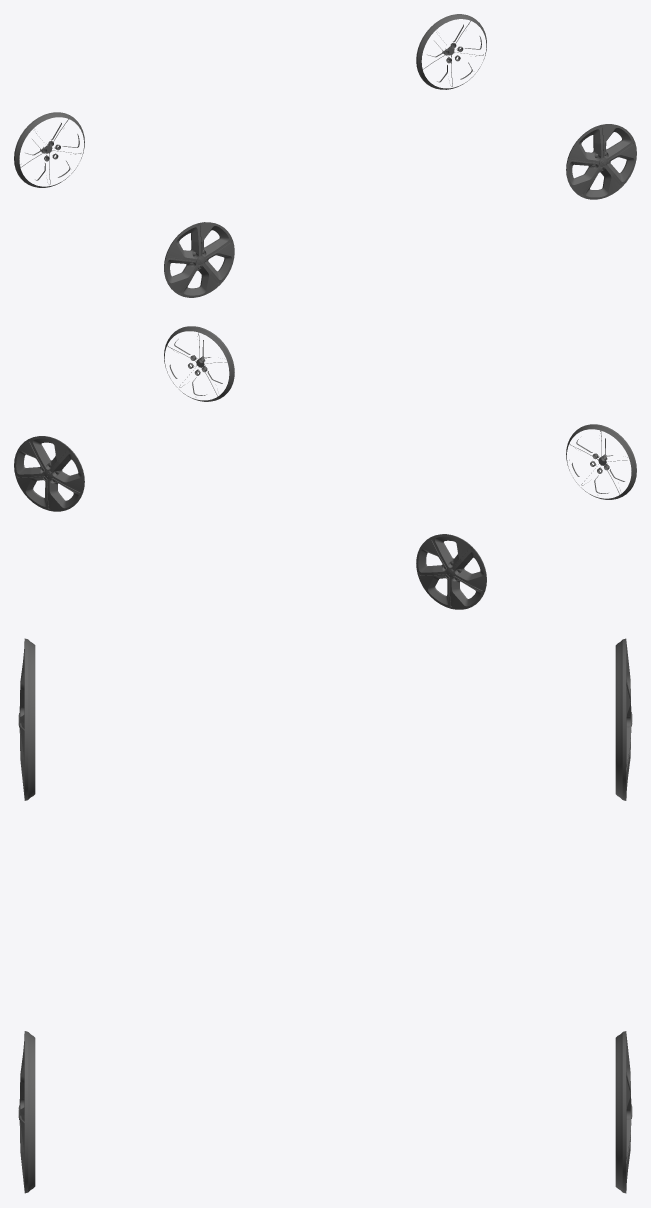
The model's file is lungu2.glb.
The picture shows the model from 3 angles, top to bottom: view 1: azimuth 30°, elevation 25°; view 2: azimuth 150°, elevation 25°; view 3: azimuth 270°, elevation 25°; orthographic projection. The views are drawn at different scales.
Visible parts, largest first — view 1: lungu1, lungu, lungu3, lungu2; view 2: lungu2, lungu3, lungu, lungu1; view 3: lungu, lungu3, lungu1, lungu2.
Part boxes in pixels (<box>): lungu1: <box>164,222,234,297</box>; lungu: <box>566,124,636,199</box>; lungu3: <box>14,112,84,187</box>; lungu2: <box>416,14,486,89</box>; lungu2: <box>14,436,84,511</box>; lungu3: <box>416,534,486,609</box>; lungu: <box>164,326,234,401</box>; lungu1: <box>566,424,636,499</box>; lungu: <box>18,1031,35,1193</box>; lungu3: <box>615,638,632,800</box>; lungu1: <box>18,638,35,800</box>; lungu2: <box>615,1031,632,1193</box>.
Size of the model in its own units: 316 by 47.06 by 178.
Materials: 1 (1 with a texture image).
